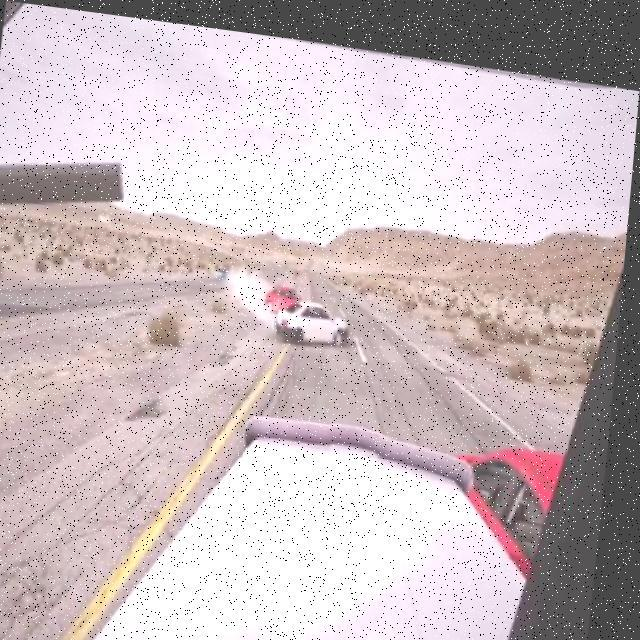Car Accident Detector - v4 Generation1 Exported: (258, 255, 366, 359)
